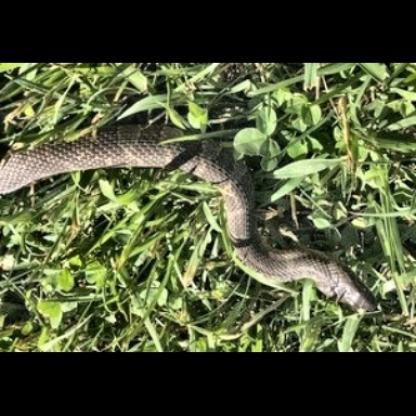Snake: (1, 138, 416, 342)
